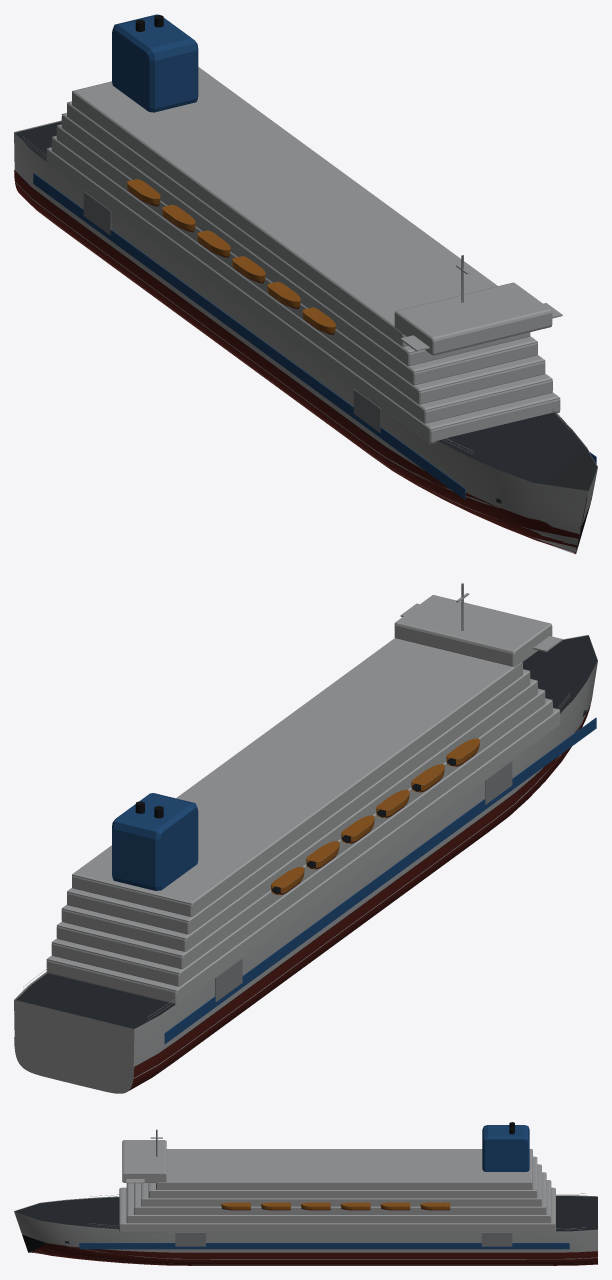
Rendered from passenger.glb.
3 renders of one model, top to bottom at view 1: azimuth 30°, elevation 25°; view 2: azimuth 150°, elevation 25°; view 3: azimuth 270°, elevation 25°, orthographic. The views are drawn at different scales.
Size of the model in its own units: 34 by 45.64 by 191.
